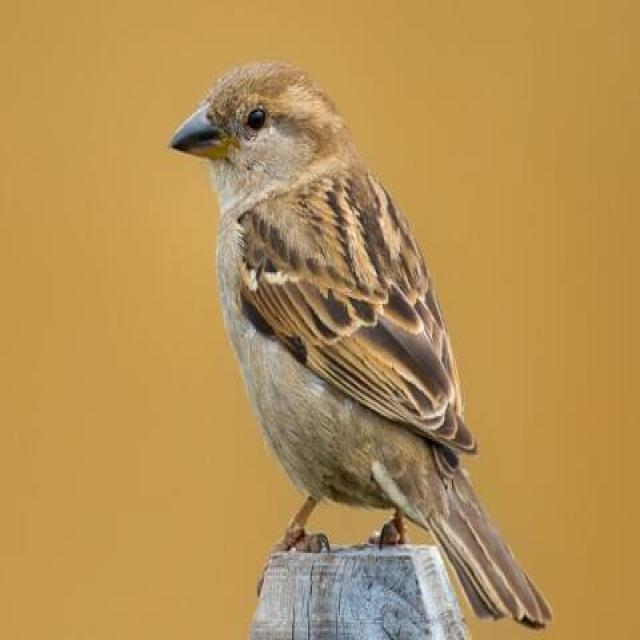Sparrow: (168, 52, 546, 624)
